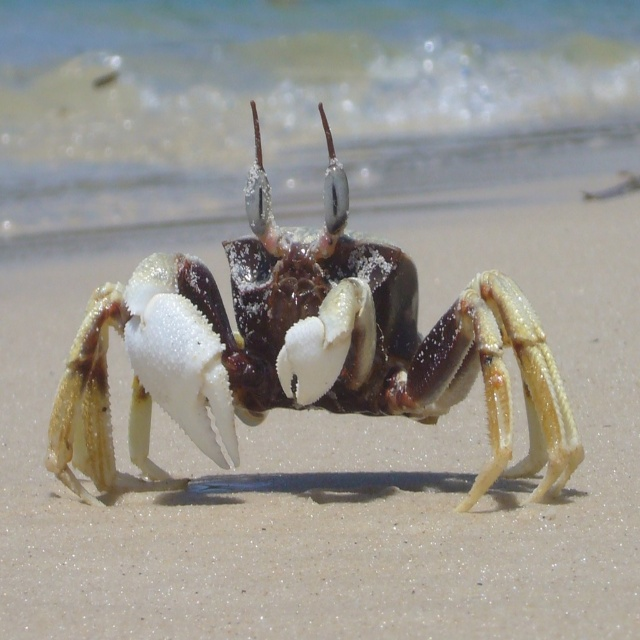Crab: (42, 96, 592, 512)
